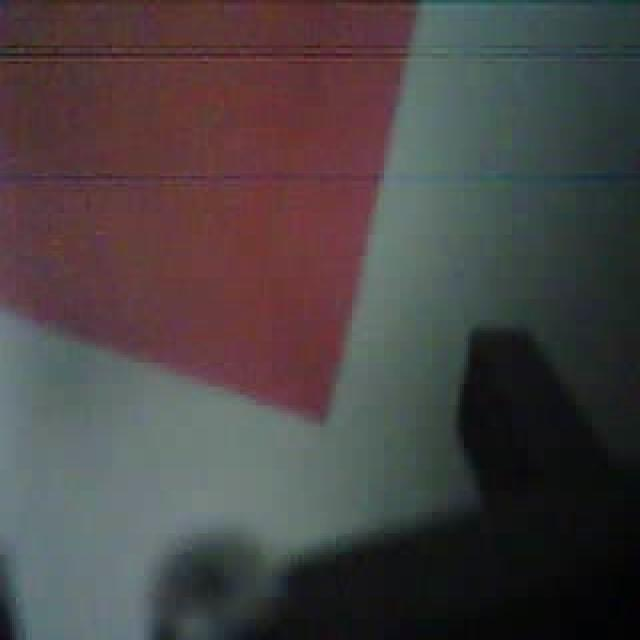red_box: (0, 2, 422, 426)
